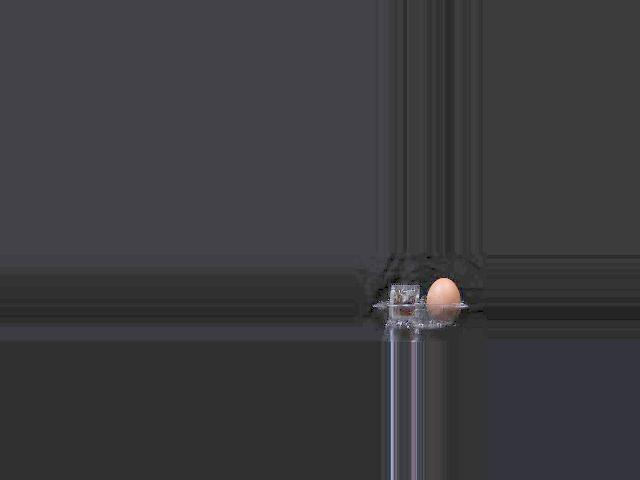egg: (427, 278, 461, 323)
